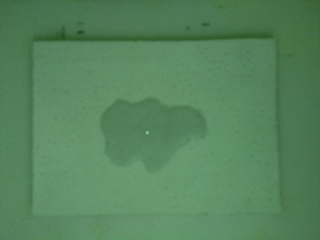Water_detected: (107, 103, 198, 164)
